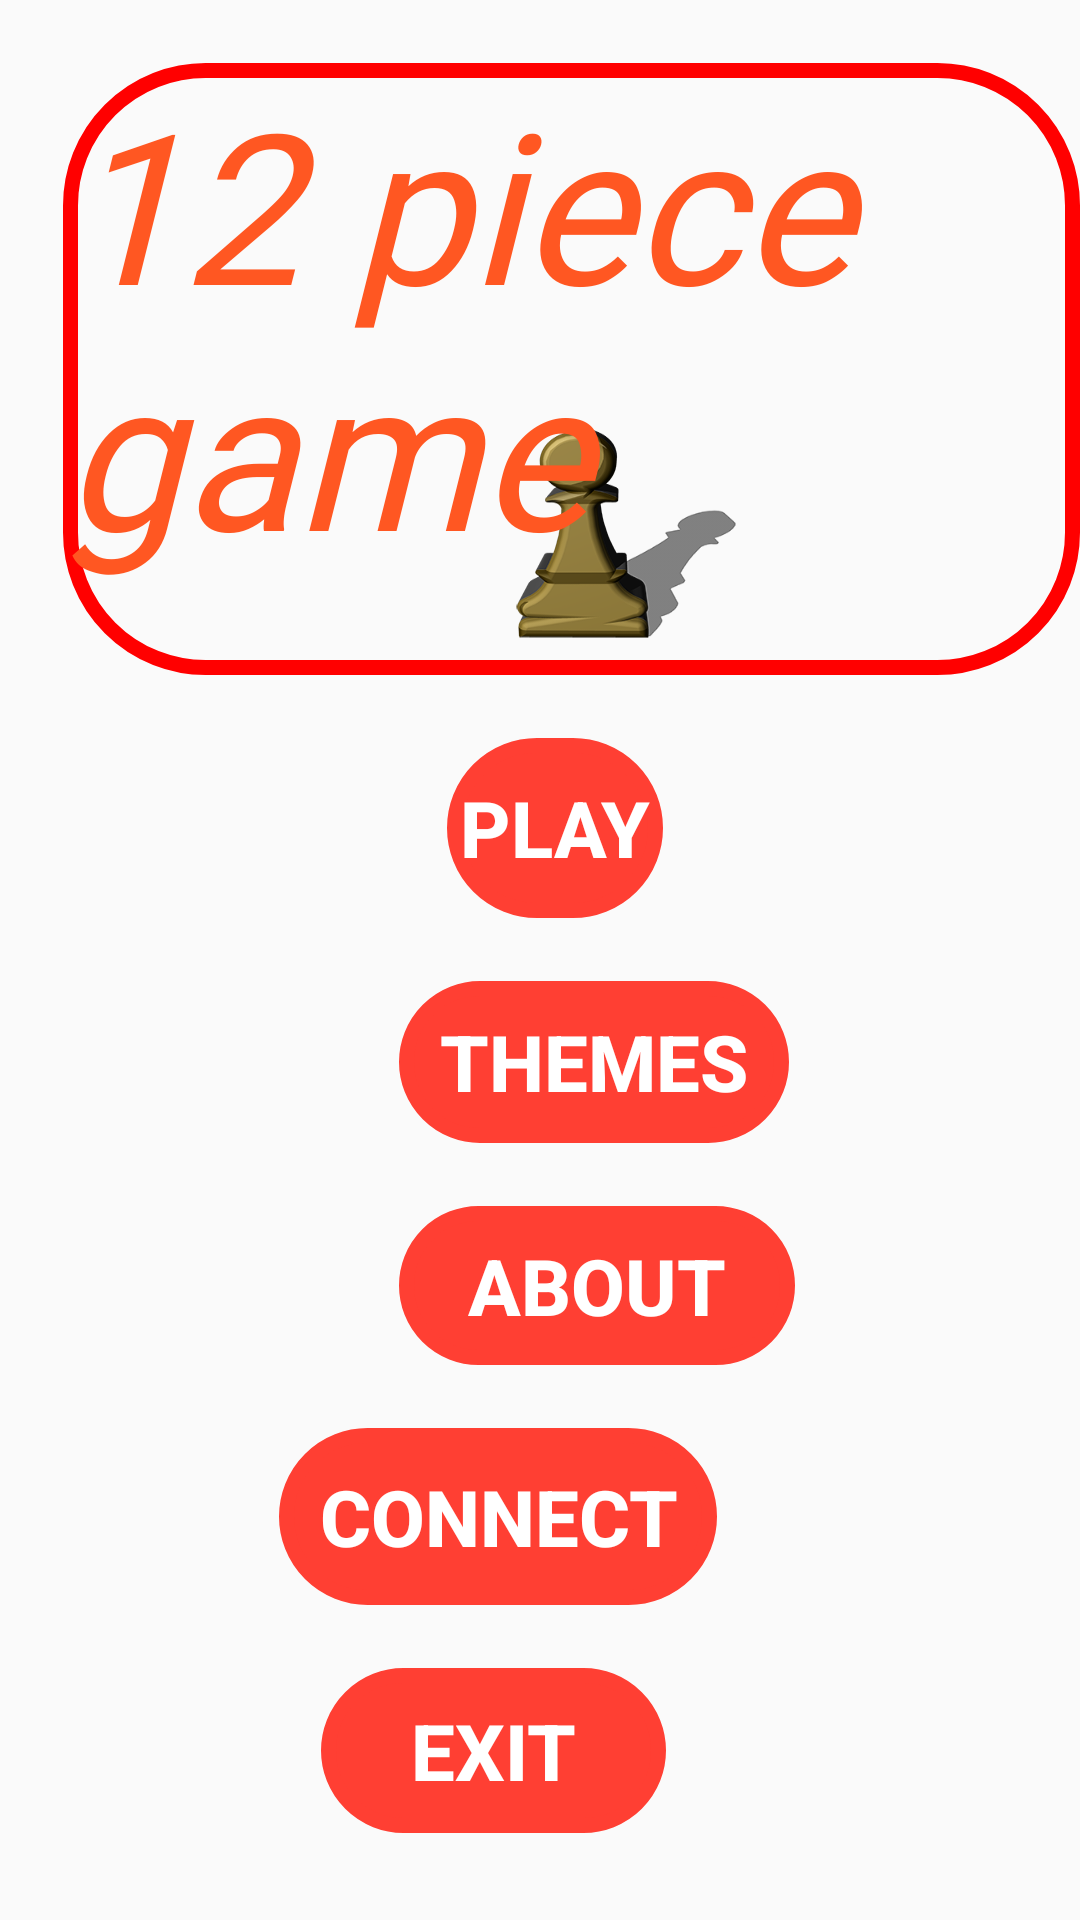

Icons on this 1080w x 1920h Android screen, each with its box as rect(x1, y1, x2, y2):
goti: rect(499, 418, 736, 638)
